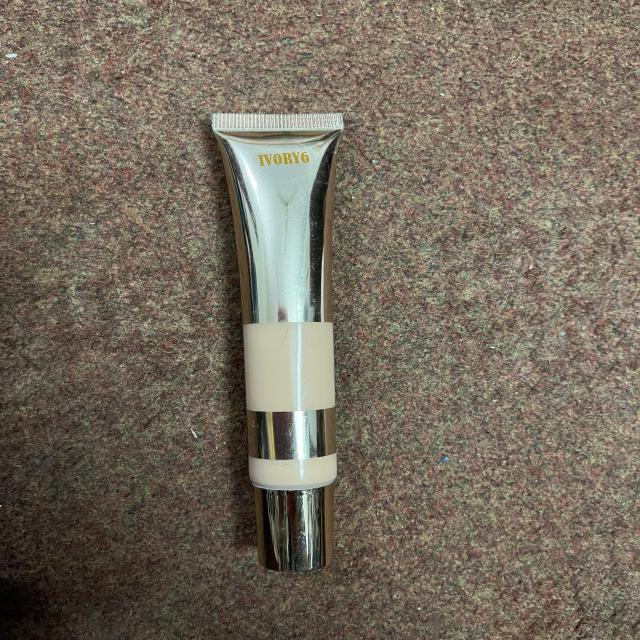primer: (196, 104, 364, 578)
